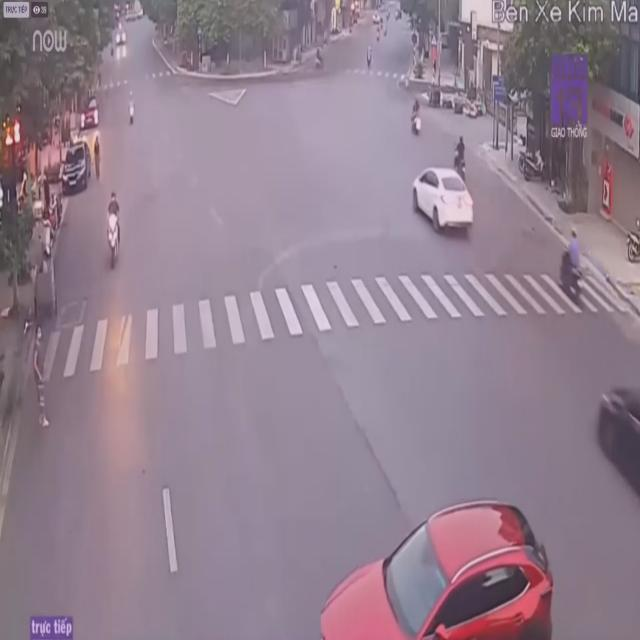car: (302, 495, 560, 640), (598, 379, 640, 494), (412, 169, 474, 242)
motorbike: (104, 190, 126, 272), (558, 228, 582, 298), (454, 134, 467, 175)
